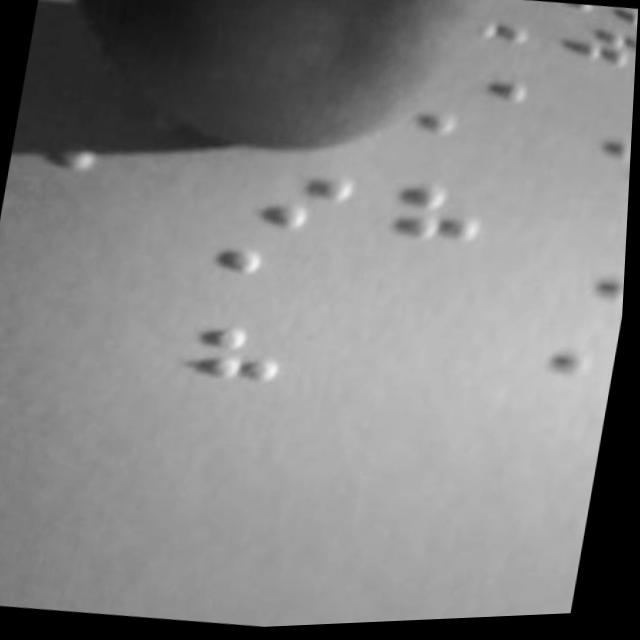braiile: (351, 166, 495, 257), (154, 304, 297, 395), (164, 212, 319, 290)
